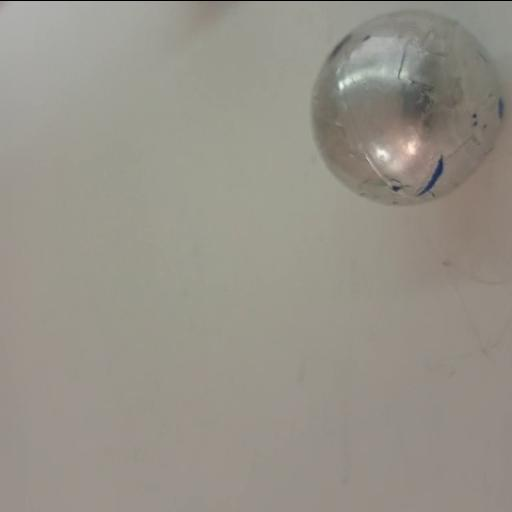alive: (308, 6, 508, 210)
